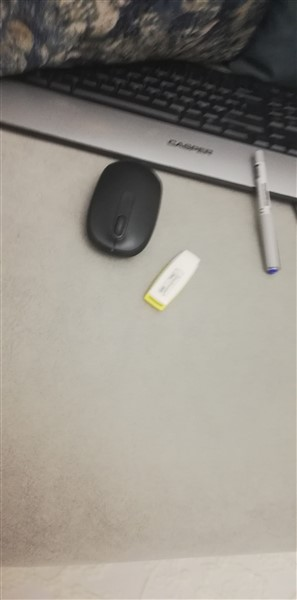flash disk: (140, 248, 208, 315)
klavye: (1, 21, 297, 206)
mouse: (82, 157, 176, 259)
pilot kalem: (246, 147, 281, 277)
